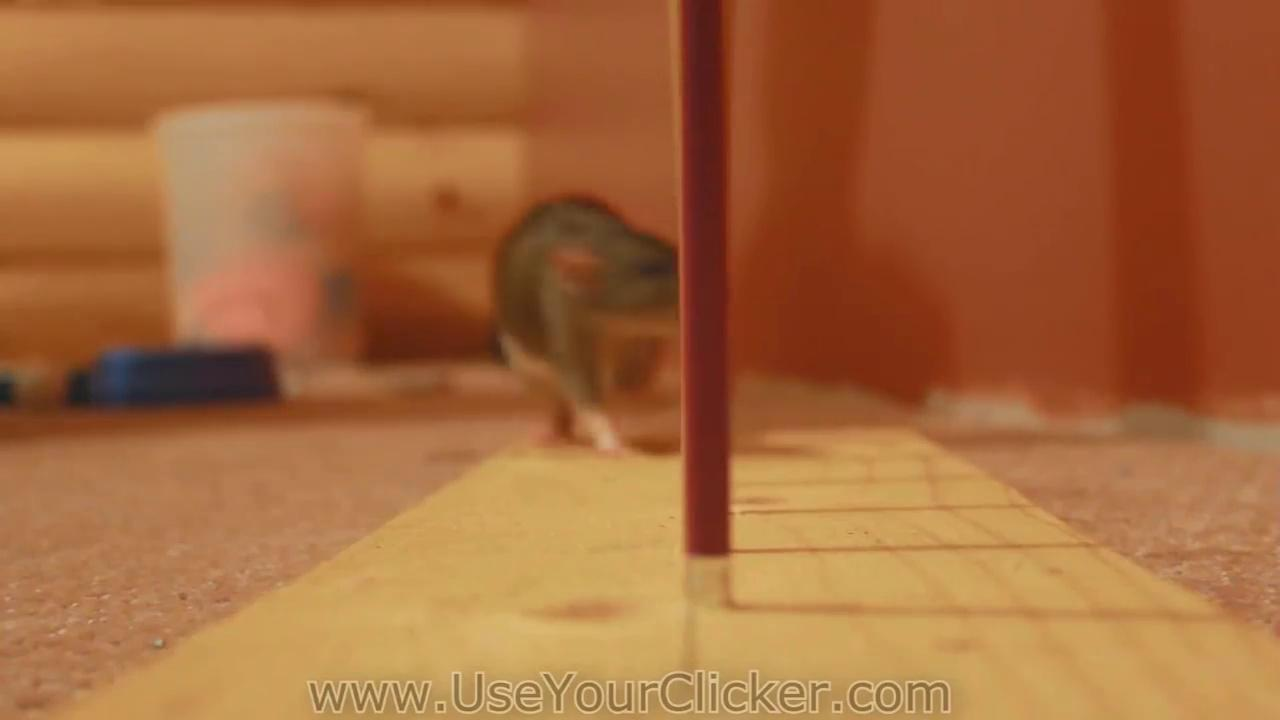rat: (493, 193, 680, 447)
